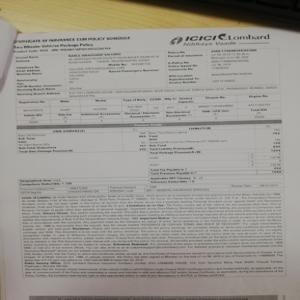image: (169, 31, 275, 48)
table: (14, 118, 283, 193), (14, 89, 281, 118)
text: (18, 193, 286, 277), (13, 34, 136, 51)
